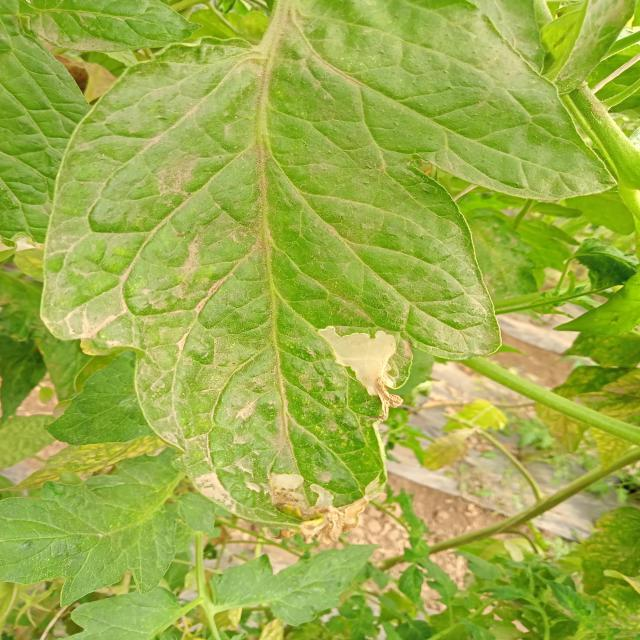Tuta absoluta: (312, 324, 399, 400)
